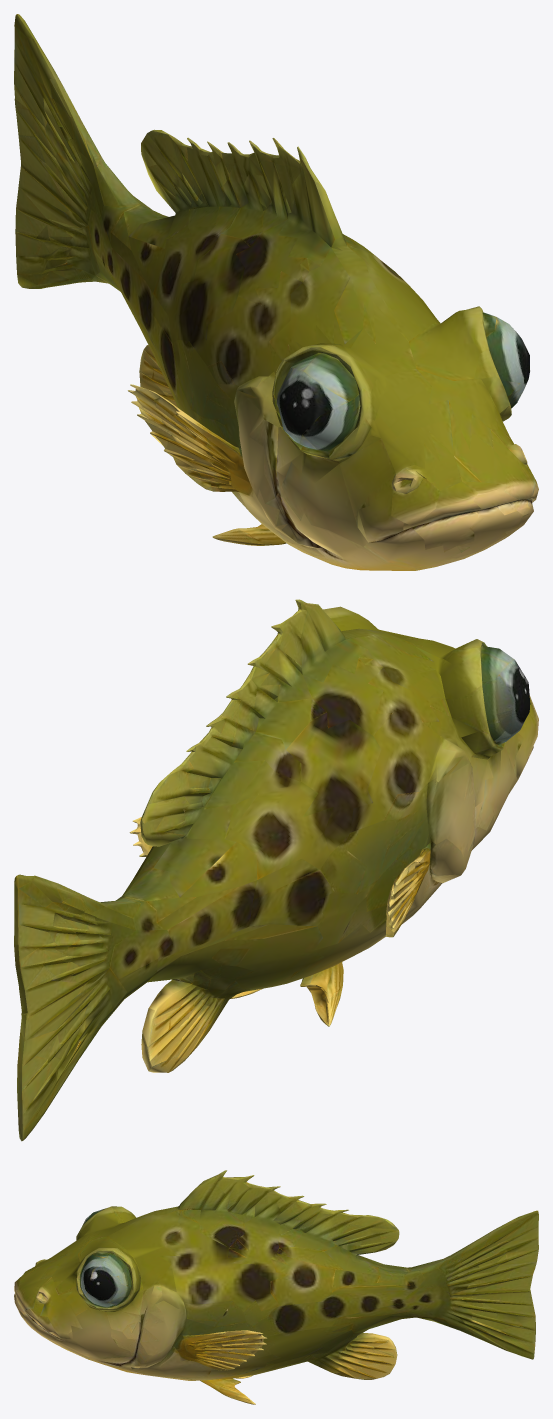
The model's file is goby.glb.
The picture shows the model from 3 angles, top to bottom: view 1: azimuth 30°, elevation 25°; view 2: azimuth 150°, elevation 25°; view 3: azimuth 270°, elevation 25°; orthographic projection. The views are drawn at different scales.
Size of the model in its own units: 0.6482 by 0.9215 by 2.
Materials: 1 (1 with a texture image).
